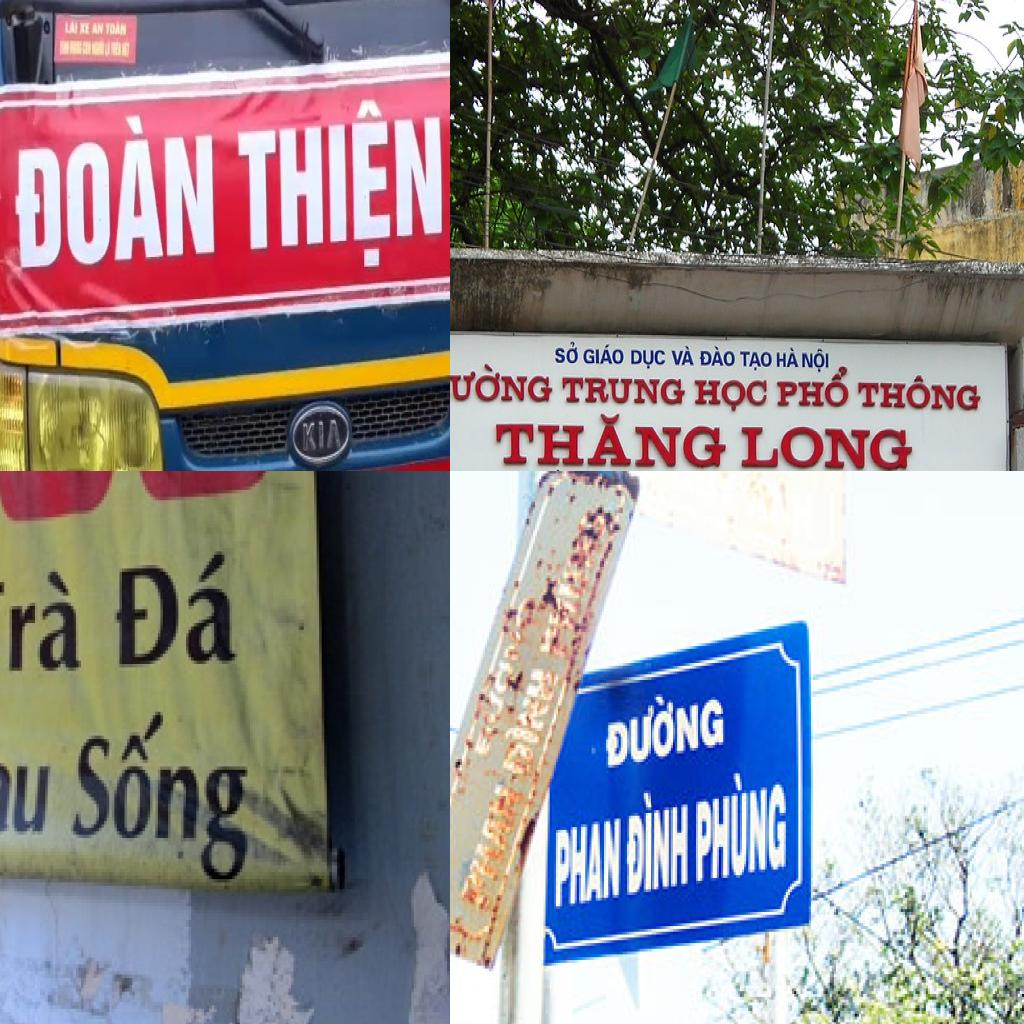text: (238, 92, 444, 278), (16, 108, 216, 270), (110, 548, 242, 674), (496, 411, 727, 470), (602, 677, 727, 776), (696, 765, 788, 889), (0, 565, 86, 677), (623, 782, 692, 898), (741, 425, 913, 471), (552, 813, 629, 912), (0, 728, 60, 841), (858, 375, 983, 411), (450, 361, 554, 404), (562, 376, 686, 406), (777, 364, 851, 408), (694, 379, 768, 414), (583, 343, 626, 367), (699, 346, 736, 368), (801, 347, 830, 374), (740, 350, 773, 372), (630, 350, 666, 370), (554, 342, 579, 366), (776, 347, 801, 370), (669, 346, 696, 367), (105, 20, 127, 38), (65, 18, 78, 36), (111, 39, 122, 57), (122, 38, 131, 58), (79, 23, 91, 36), (92, 23, 104, 36), (105, 39, 111, 58)
